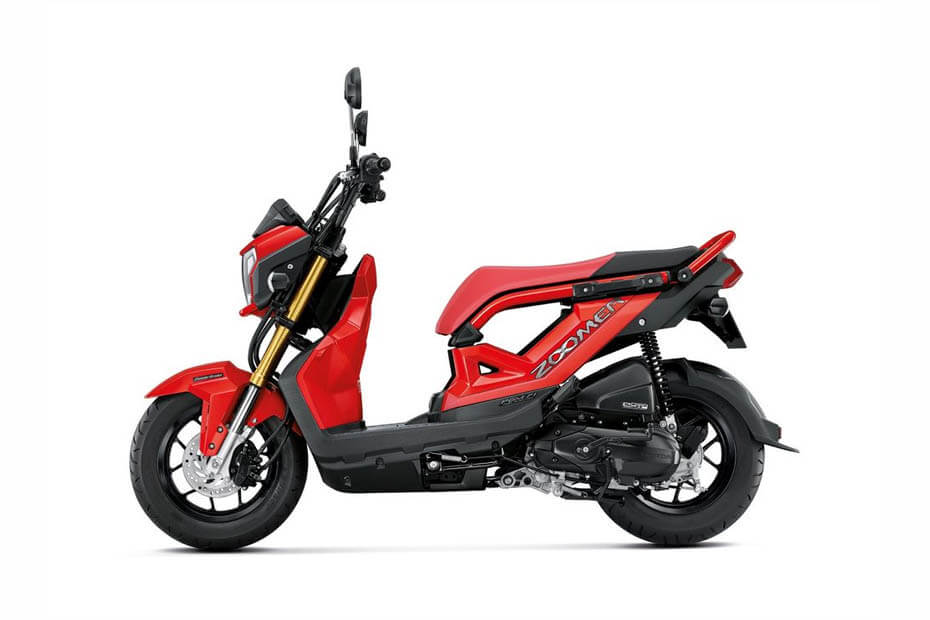motorcycle: (125, 67, 802, 556)
